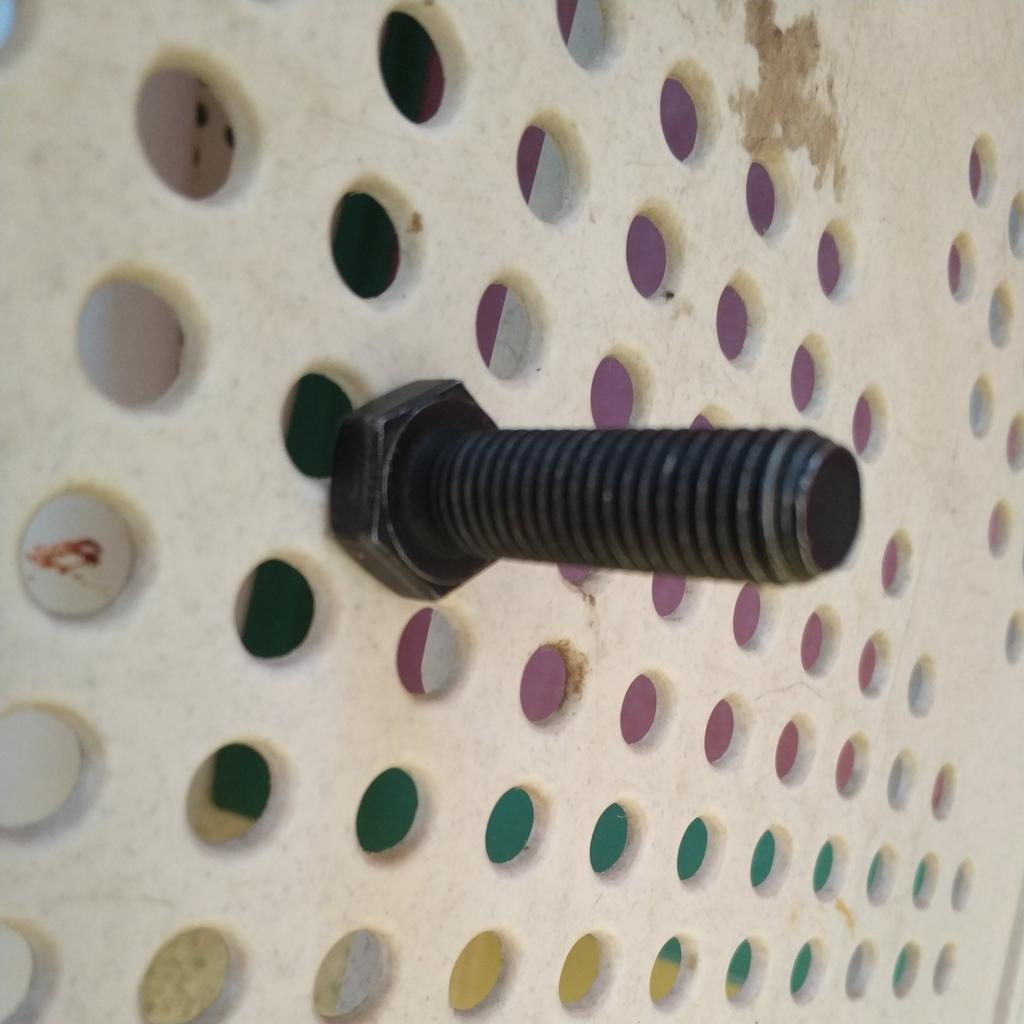screwtype2black: (321, 367, 875, 627)
